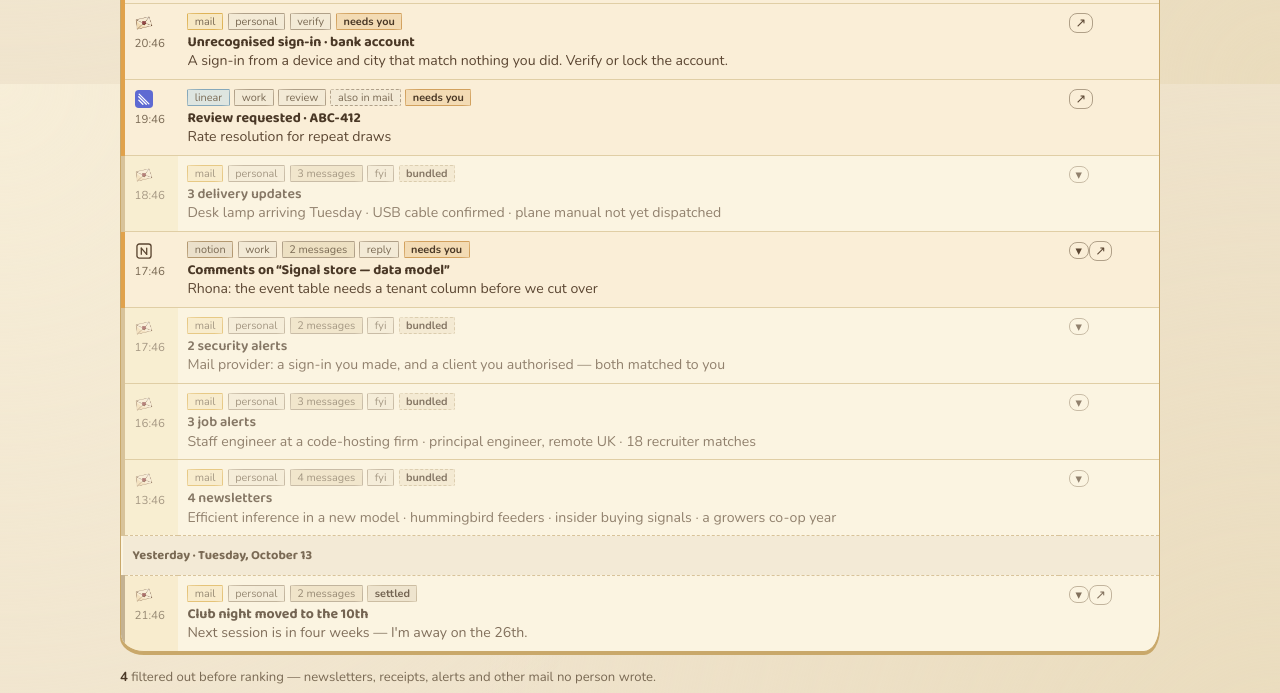
AlmonerPage › opens a rollup with the same control as a conversation
The image size is (1280, 693).
(page scrolled)
Click the button named "Show 4 messages in 4 newsletters": point(1079, 479) [1069,470,1088,487]
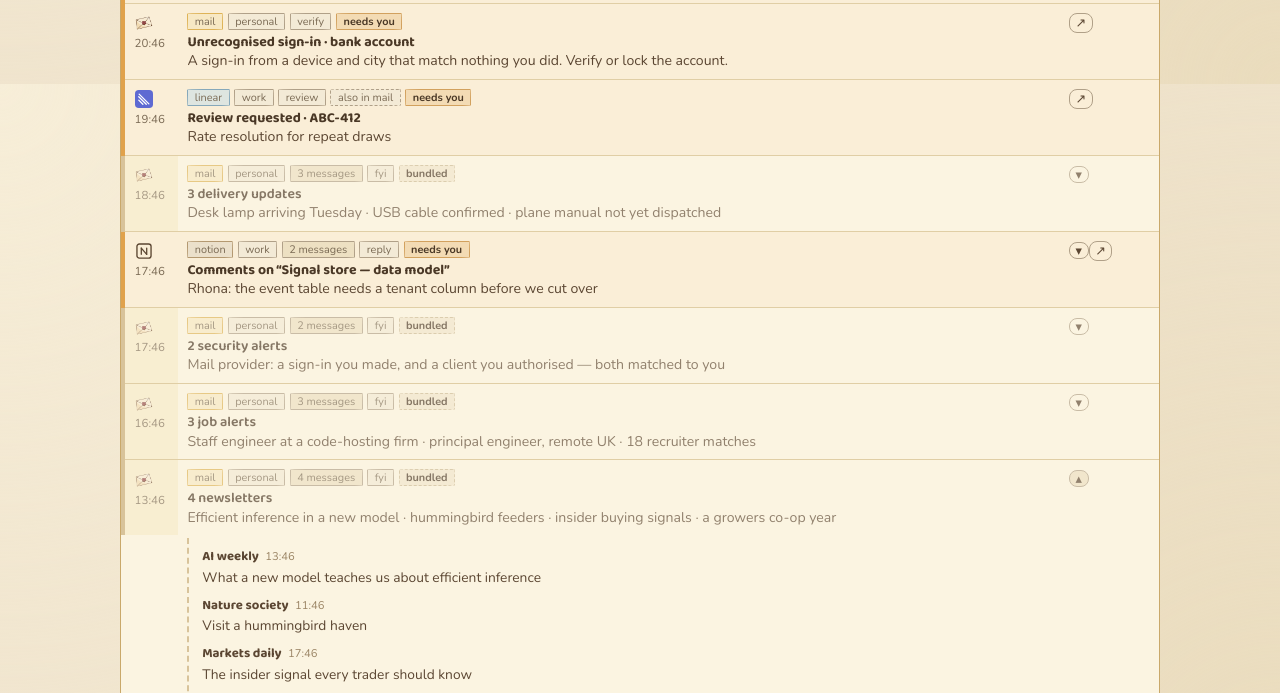
Now the text "Visit a hummingbird haven" is shown, box [202,616,367,635]
